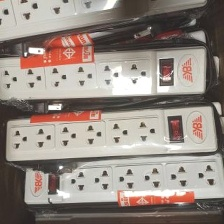three_eye_plug: (2, 102, 220, 164), (0, 40, 210, 104), (18, 150, 224, 209), (0, 0, 209, 48)
